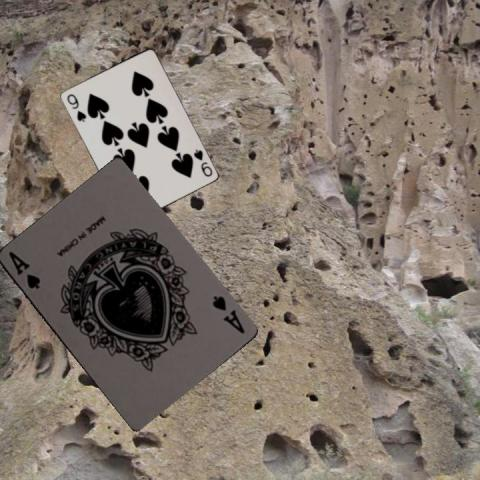9s: (64, 91, 88, 123), (190, 146, 214, 178)
As: (209, 292, 246, 335), (5, 248, 41, 291)
